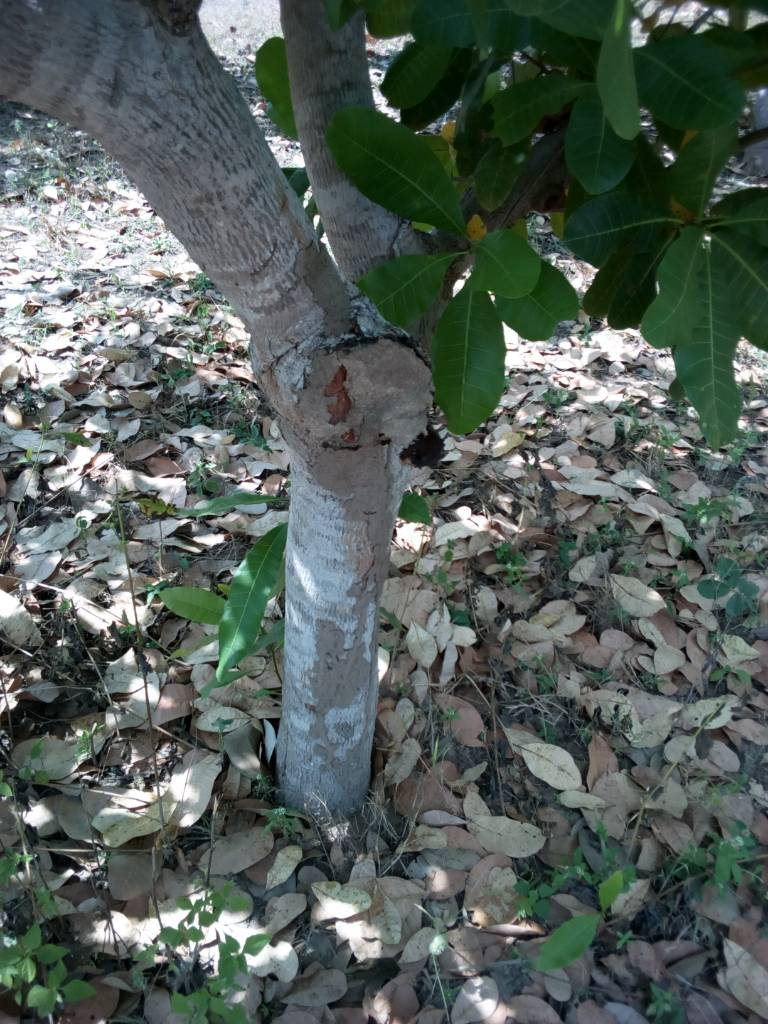Virose: (288, 280, 460, 547)
